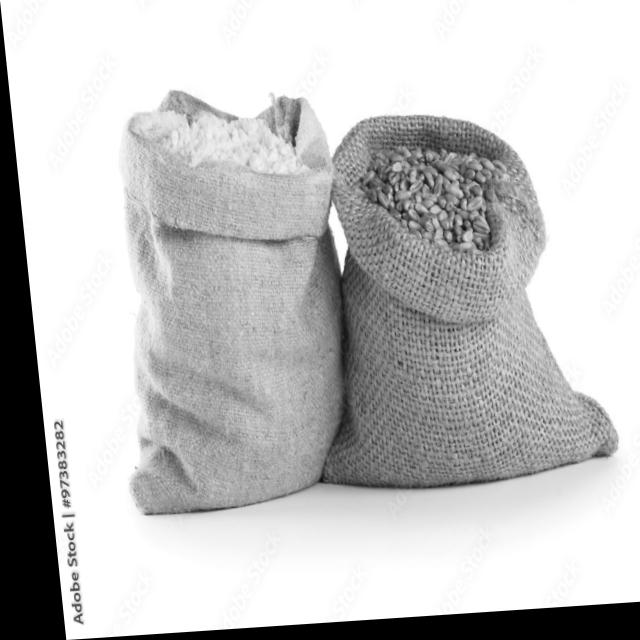sack: (280, 109, 611, 499), (86, 84, 356, 519)
